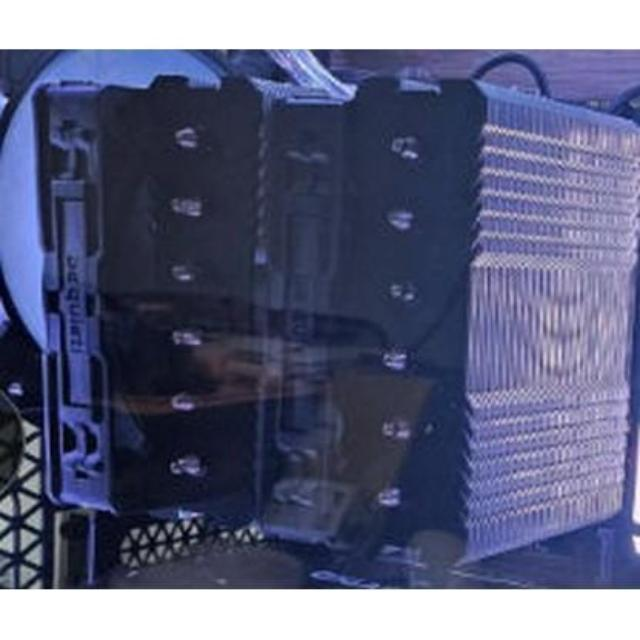CPU_Fan: (38, 74, 630, 540)
